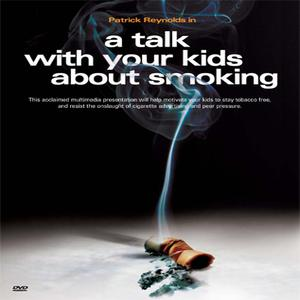cigarette: (141, 230, 218, 275)
